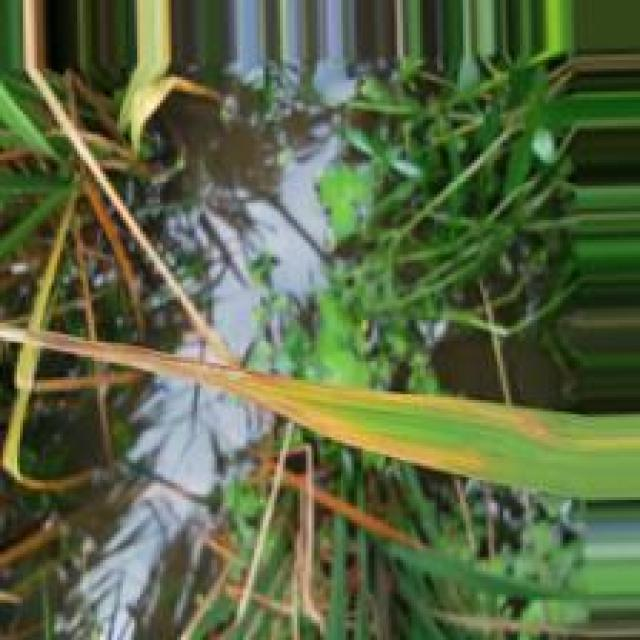Leaf_Scald: (0, 327, 586, 473)
